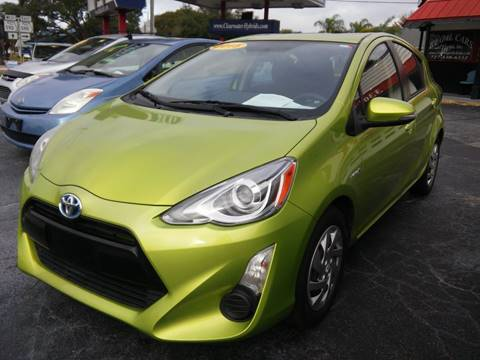Toyota Prius: (13, 31, 449, 348)
